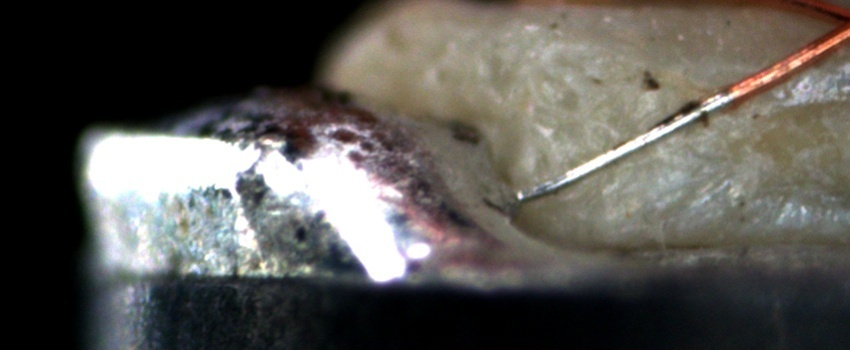CL: (816, 2, 848, 45)
DL: (696, 46, 849, 89)
TS: (515, 91, 734, 203)
